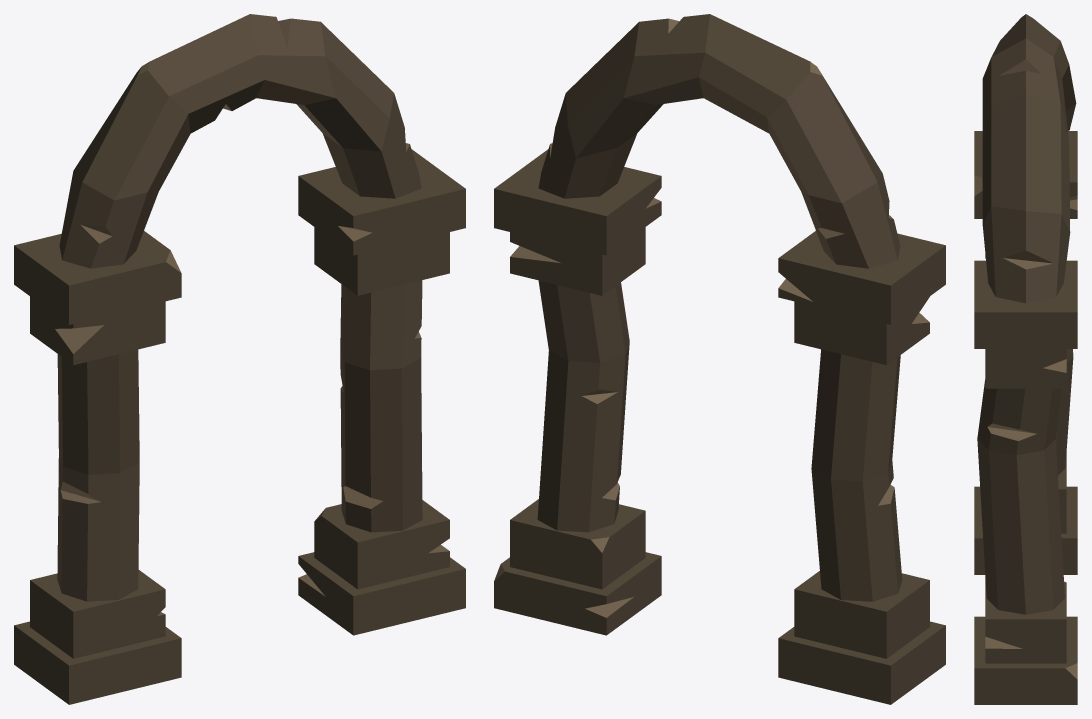
The model's file is Archway_3_Brown.fbx.
The picture shows the model from 3 angles, left to right: view 1: azimuth 30°, elevation 25°; view 2: azimuth 150°, elevation 25°; view 3: azimuth 270°, elevation 25°; orthographic projection. The views are drawn at different scales.
Parts seen in each view (by area): view 1: Archway_3_Brown_Part_1, Archway_3_Brown_Part_2; view 2: Archway_3_Brown_Part_1, Archway_3_Brown_Part_2; view 3: Archway_3_Brown_Part_1, Archway_3_Brown_Part_2.
Boxes of the visible parts, x1,y1,x2,y2 form: Archway_3_Brown_Part_1: (14, 14, 465, 704); Archway_3_Brown_Part_2: (55, 18, 449, 615); Archway_3_Brown_Part_1: (494, 14, 945, 704); Archway_3_Brown_Part_2: (494, 18, 929, 617); Archway_3_Brown_Part_1: (974, 14, 1077, 704); Archway_3_Brown_Part_2: (974, 59, 1077, 679).
Bounding box in the file's own units: 416 × 621 × 100.
